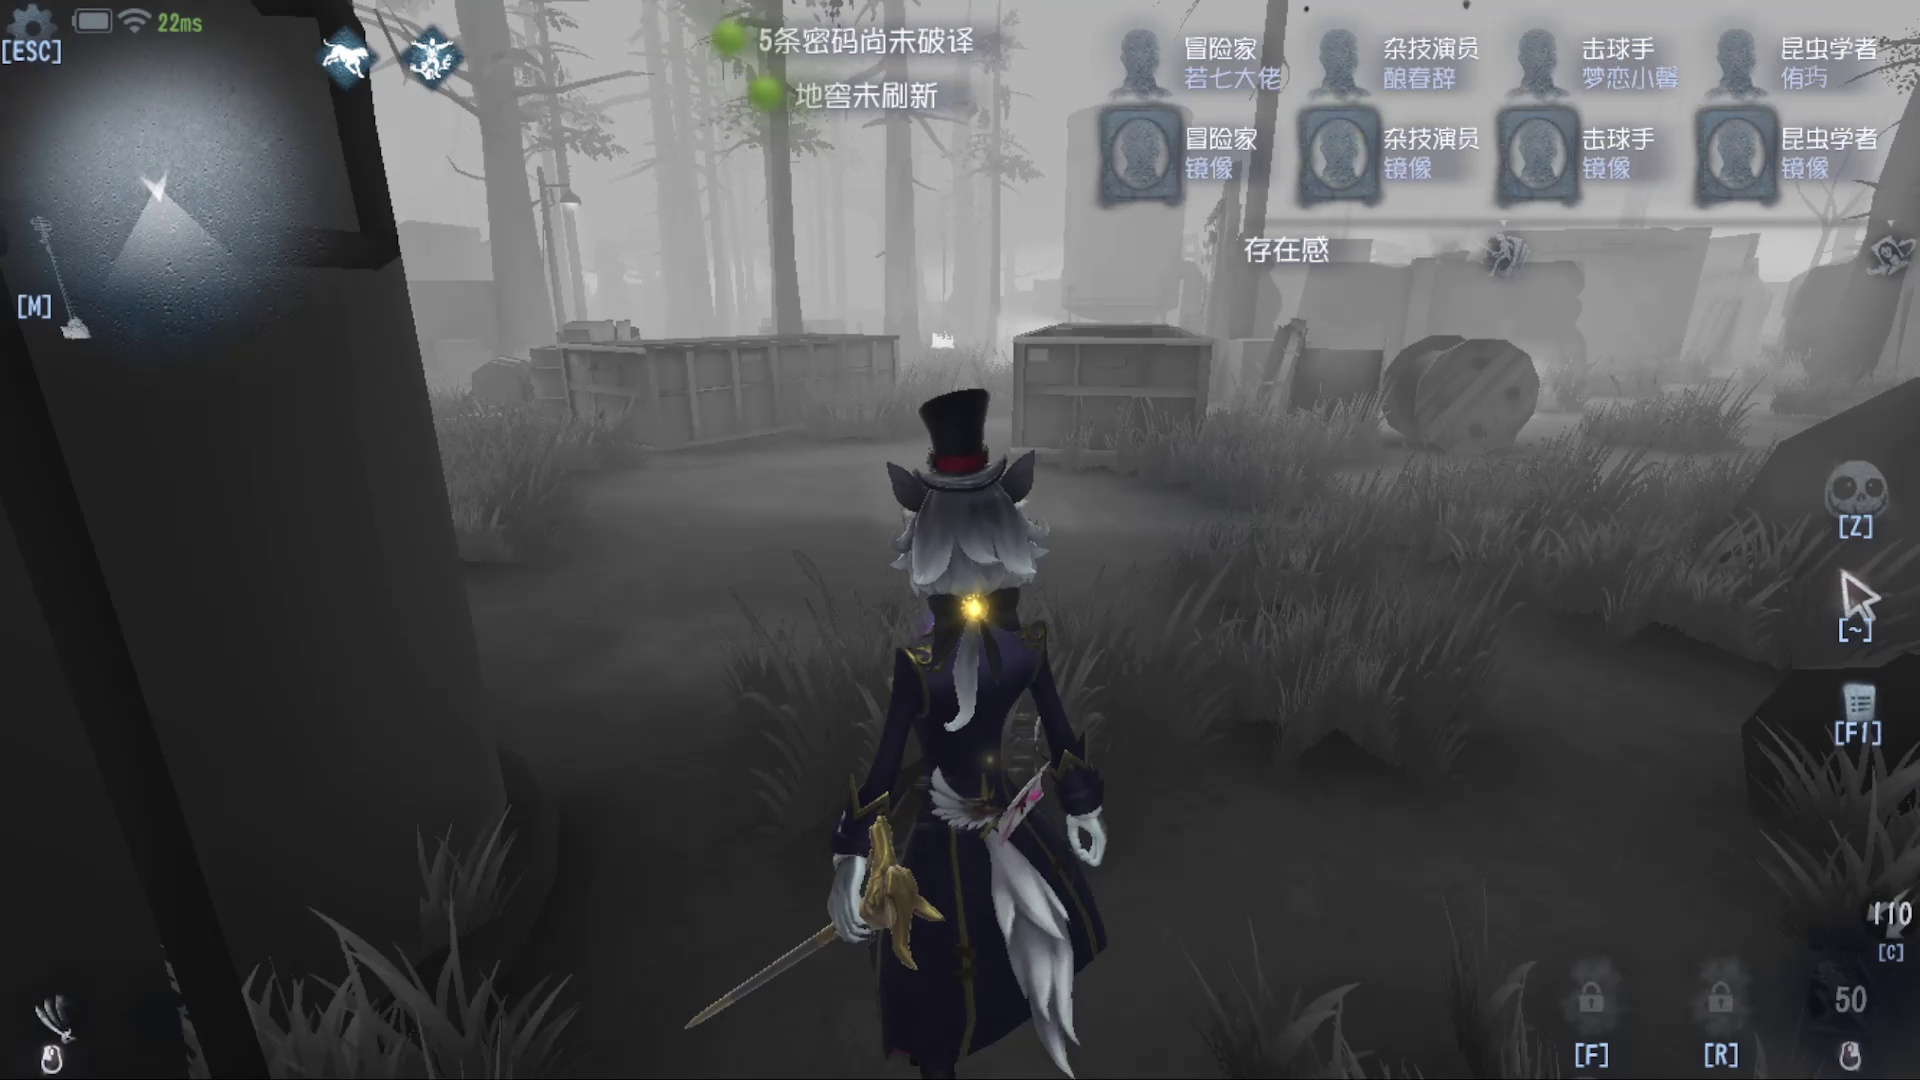密码机: (919, 199, 967, 353)
